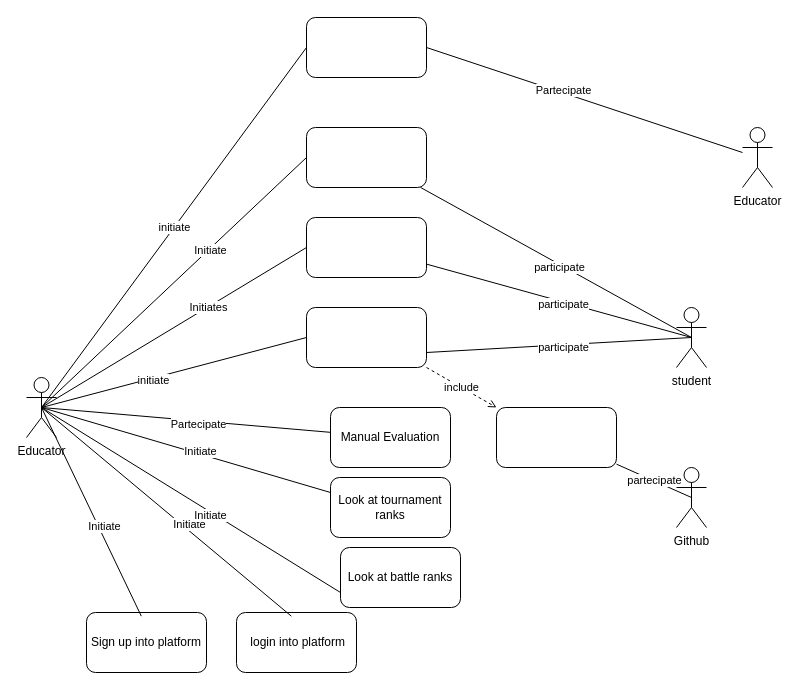
Some shapes in this 798 by 690 pixel diagram are drawn without their labels. Here are the shapes that lost their labels. From the top down, the centre of each, then its label:
At point 366,47: "Add Collaborators".
At point 366,157: "Create Tournament".
At point 366,247: "Close tournament".
At point 366,337: "Create Battle".
At point 556,437: "repository creation".
